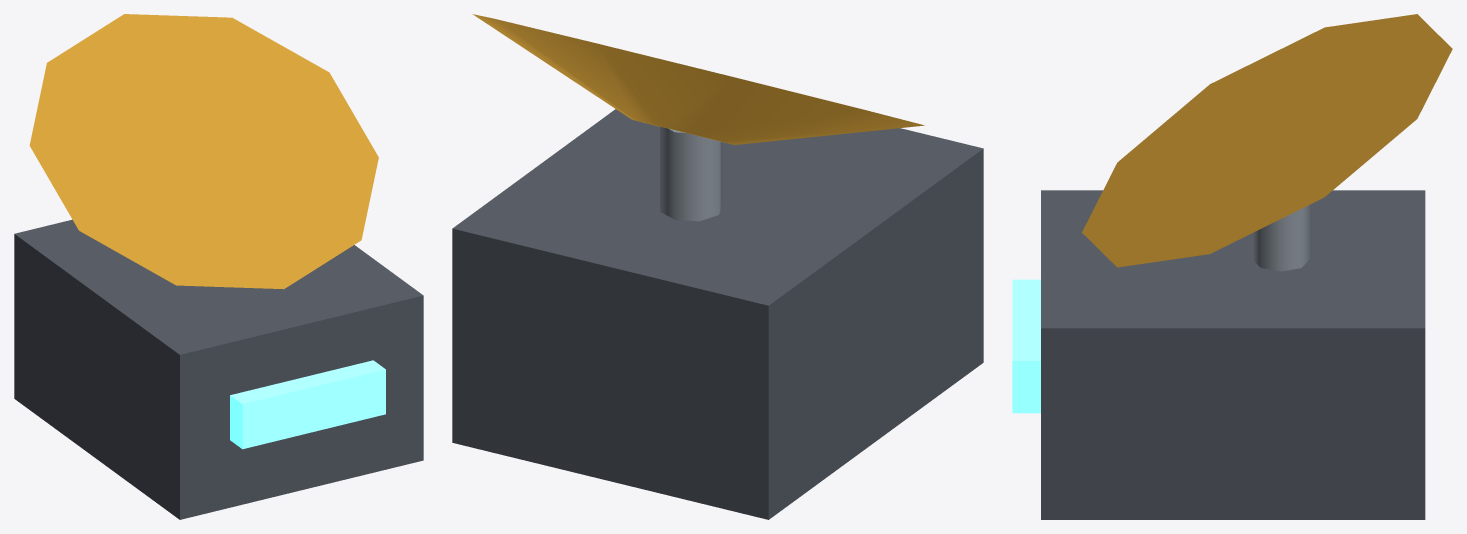
The model's file is head_radar.glb.
The picture shows the model from 3 angles, left to right: view 1: azimuth 30°, elevation 25°; view 2: azimuth 150°, elevation 25°; view 3: azimuth 270°, elevation 25°; orthographic projection. The views are drawn at different scales.
Visible parts, largest first — view 1: head, radar; view 2: head, radar; view 3: head, radar.
Part boxes in pixels (<box>): head: <box>14,219,423,519</box>; radar: <box>29,14,378,289</box>; head: <box>452,109,983,519</box>; radar: <box>472,14,924,221</box>; head: <box>1012,190,1425,519</box>; radar: <box>1082,14,1452,271</box>.
Size of the model in its own units: 0.4185 by 0.4618 by 0.4587.
